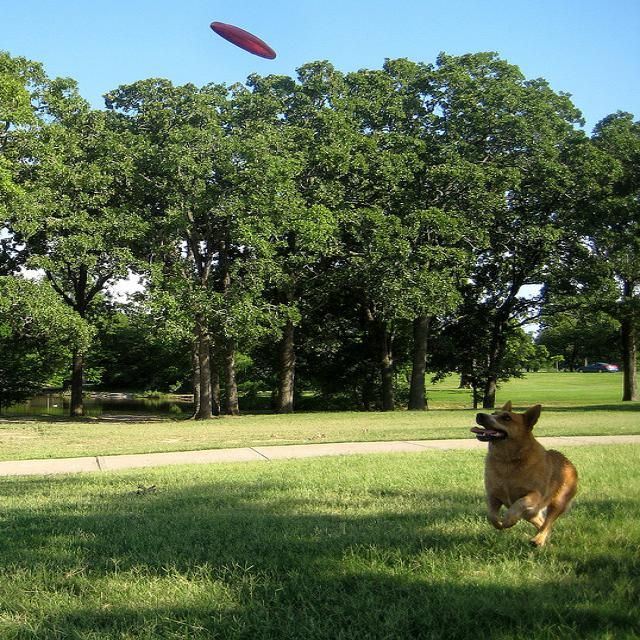Vehicle: (576, 362, 620, 374)
